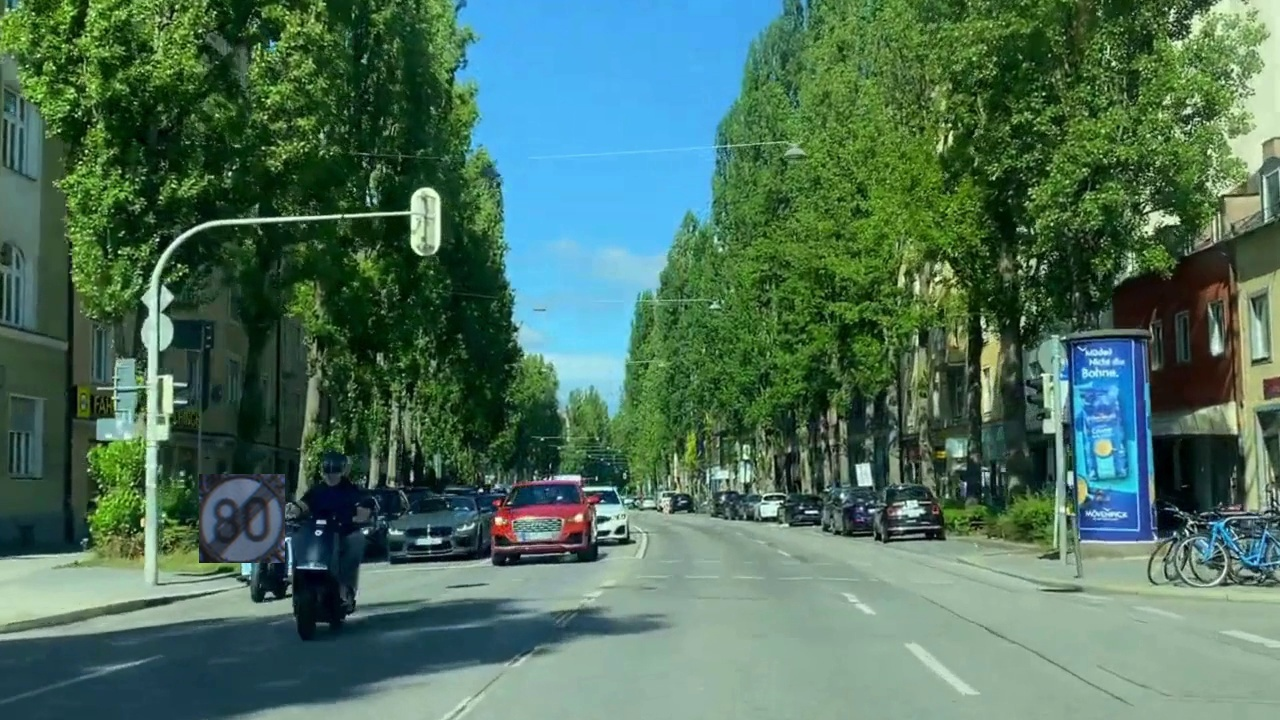End Speed 80: (199, 474, 285, 563)
